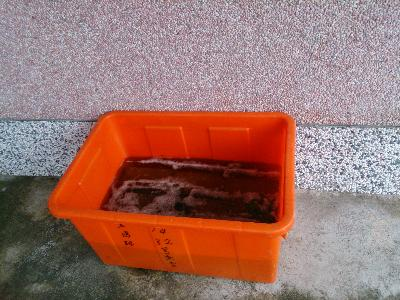box: (46, 109, 298, 286)
